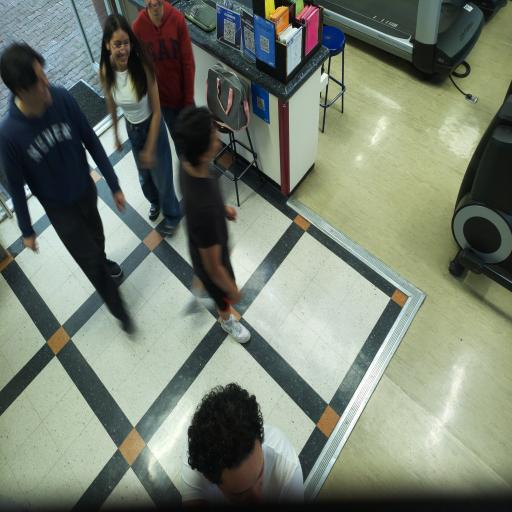person: (0, 43, 133, 332), (99, 15, 180, 234), (176, 107, 250, 343), (182, 384, 303, 506), (133, 0, 194, 142)
